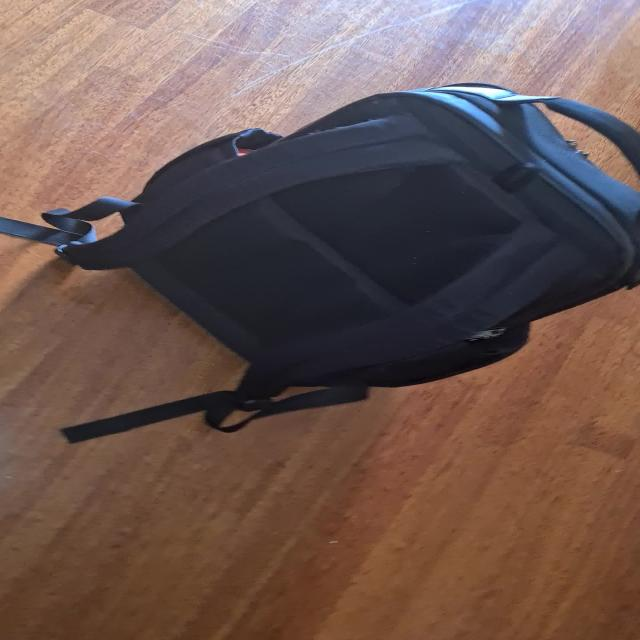backpack: (95, 70, 640, 390)
